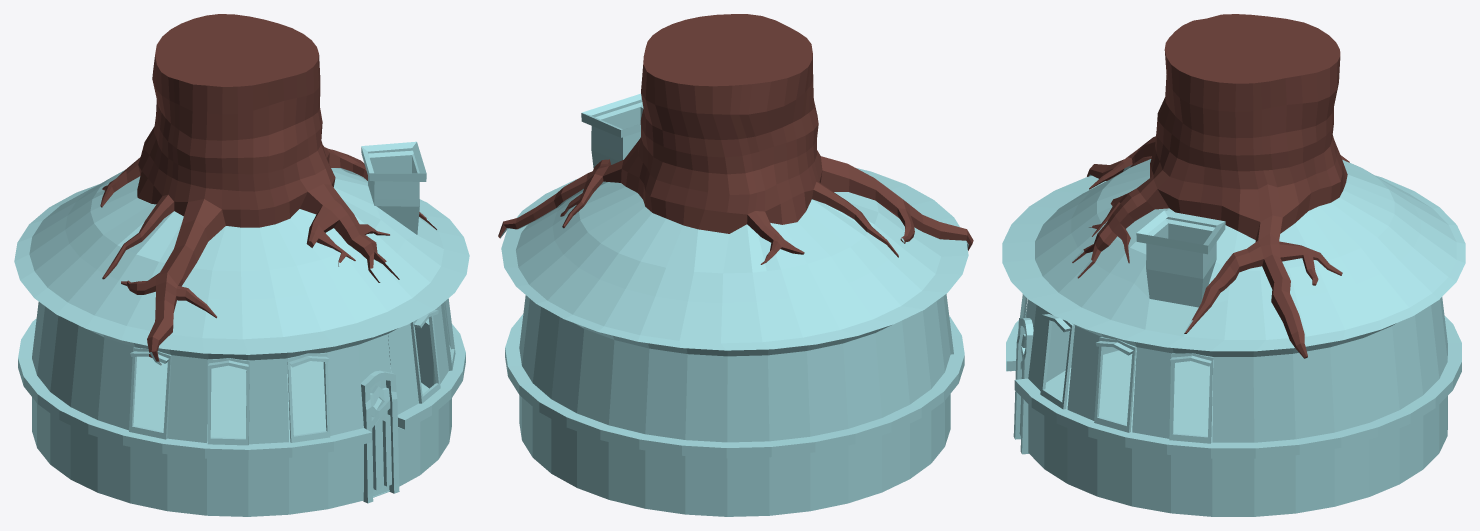
Rendered from TreeHouse03.fbx.
The picture shows the model from 3 angles, left to right: view 1: azimuth 30°, elevation 25°; view 2: azimuth 150°, elevation 25°; view 3: azimuth 270°, elevation 25°; orthographic projection. The views are drawn at different scales.
Visible parts, largest first — view 1: Cylinder.020; view 2: Cylinder.020; view 3: Cylinder.020.
Boxes of the visible parts, x1,y1,x2,y2 form: Cylinder.020: [14, 14, 469, 516]; Cylinder.020: [498, 14, 973, 516]; Cylinder.020: [1002, 14, 1465, 516].
Bounding box in the file's own units: 806 × 733 × 806.
